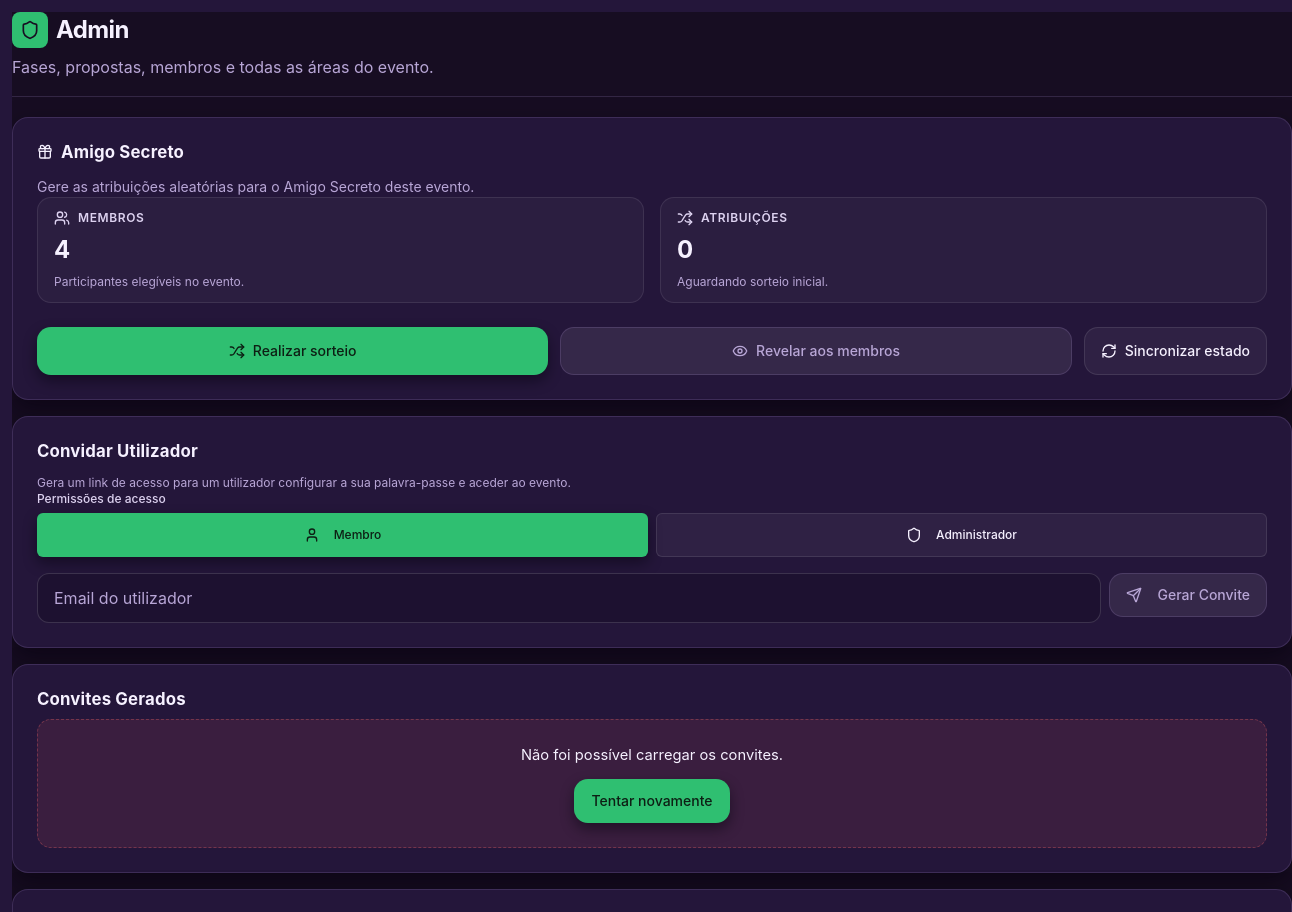
Test: CanhoesAdminModule — members › runs the secret santa draw
Click the button "Realizar sorteio": click(293, 350) [37, 326, 548, 374]
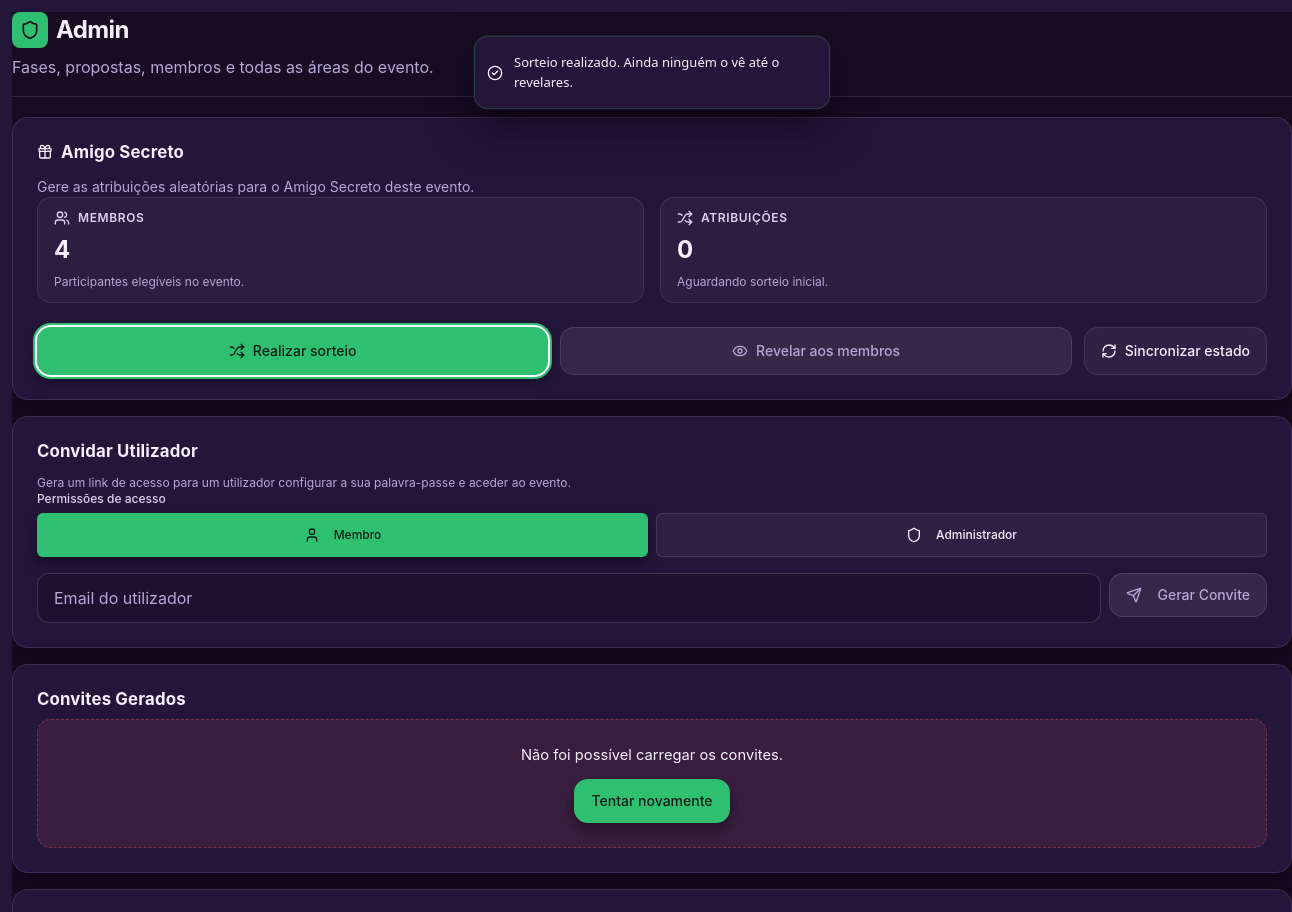
Result: the text "Sorteio realizado. Ainda ninguém o vê até o revelares." is shown at [514, 53, 813, 92]
